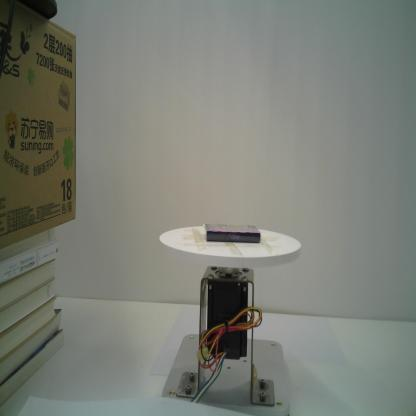Gum: (204, 222, 261, 244)
